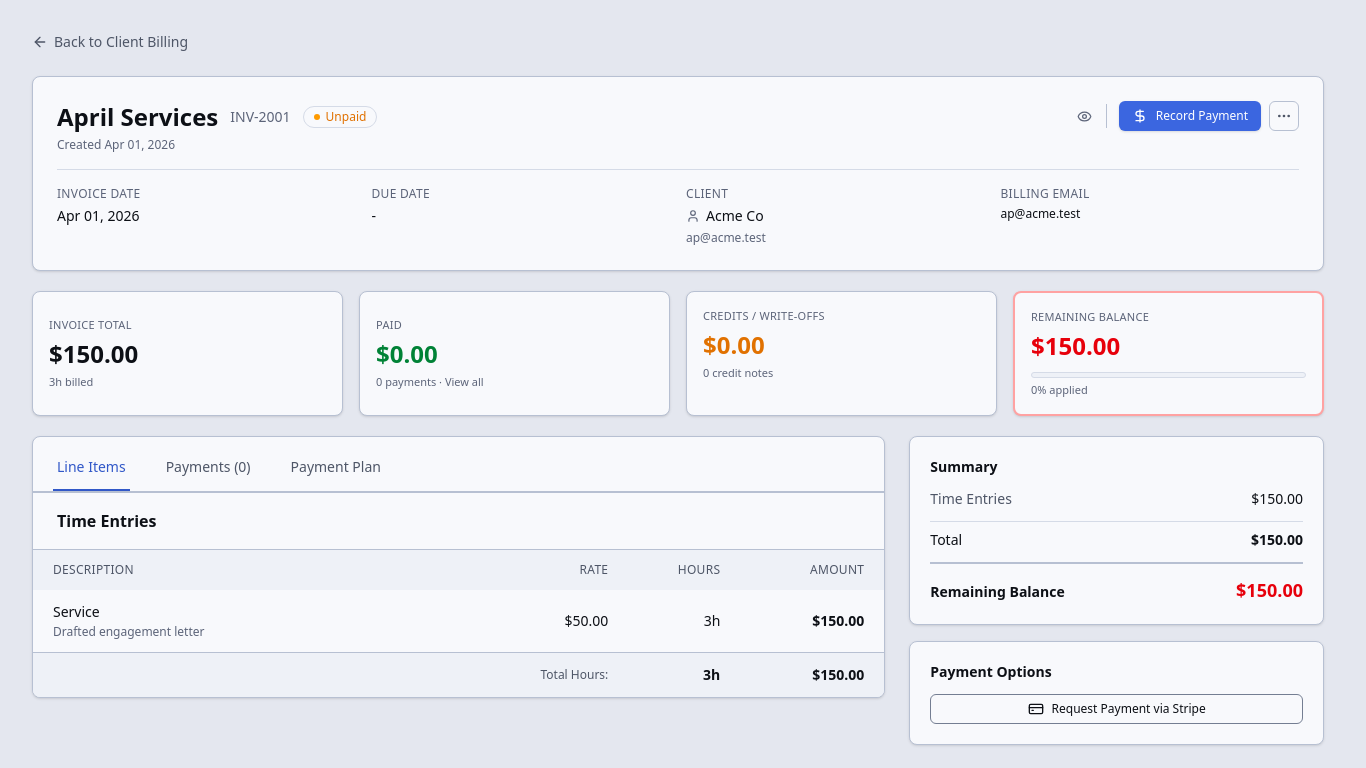
it: who sees the row link actions › offers Send payment link to a member who can record payments but not manage invoices
The image size is (1366, 768).
Click the button "Payment Plan" at (336, 468), box x1=287 y1=445 x2=385 y2=491
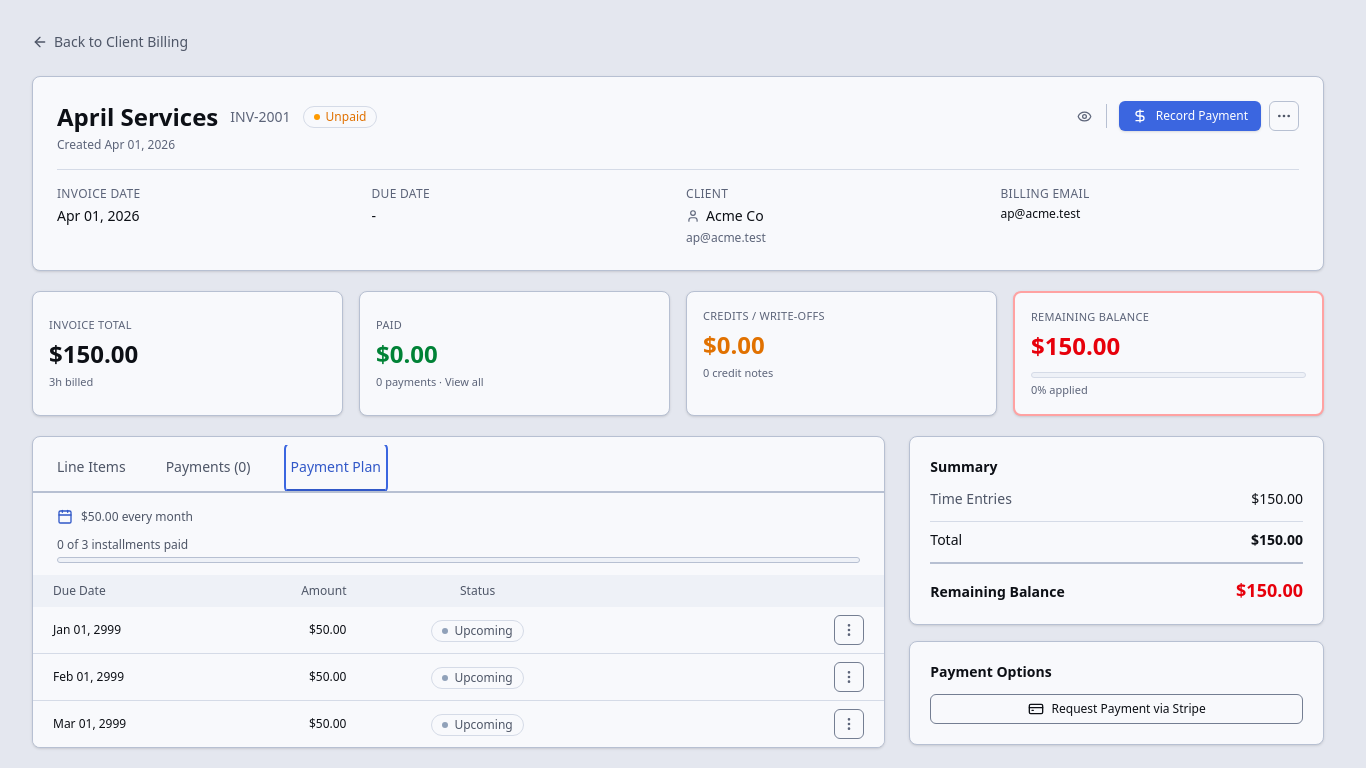
Click the button named "More installment actions" in the row of "Feb 01, 2999" at (849, 677), box x1=834 y1=662 x2=864 y2=692
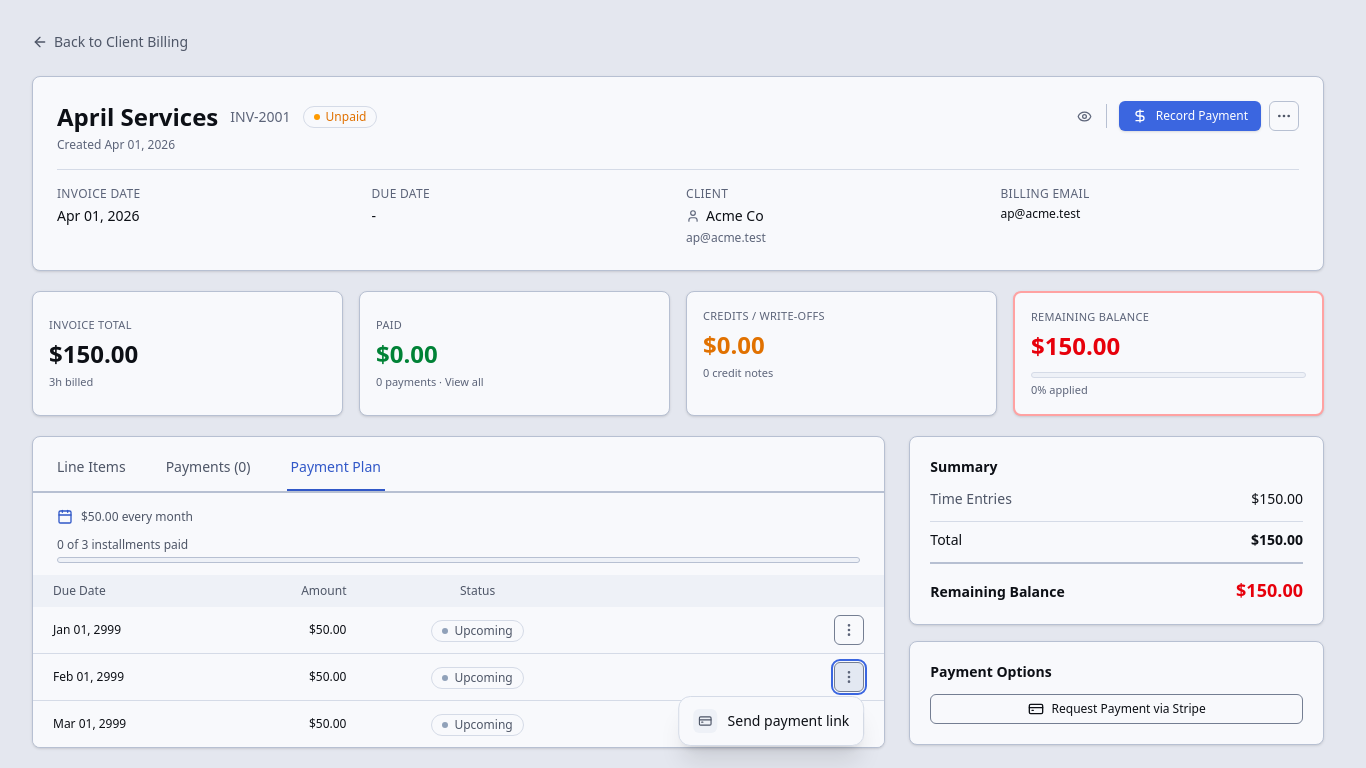
Expected: the menu item "Send payment link" is shown, x1=684 y1=701 x2=859 y2=741
